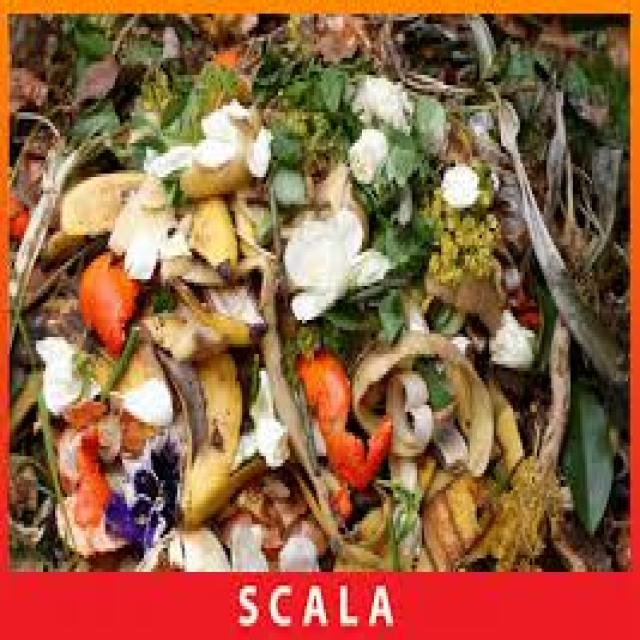Organik: (11, 14, 628, 567), (147, 103, 288, 579), (41, 105, 290, 360), (324, 28, 450, 250), (72, 400, 223, 583), (430, 159, 547, 385), (278, 334, 397, 534), (276, 173, 390, 356), (64, 218, 145, 389)
